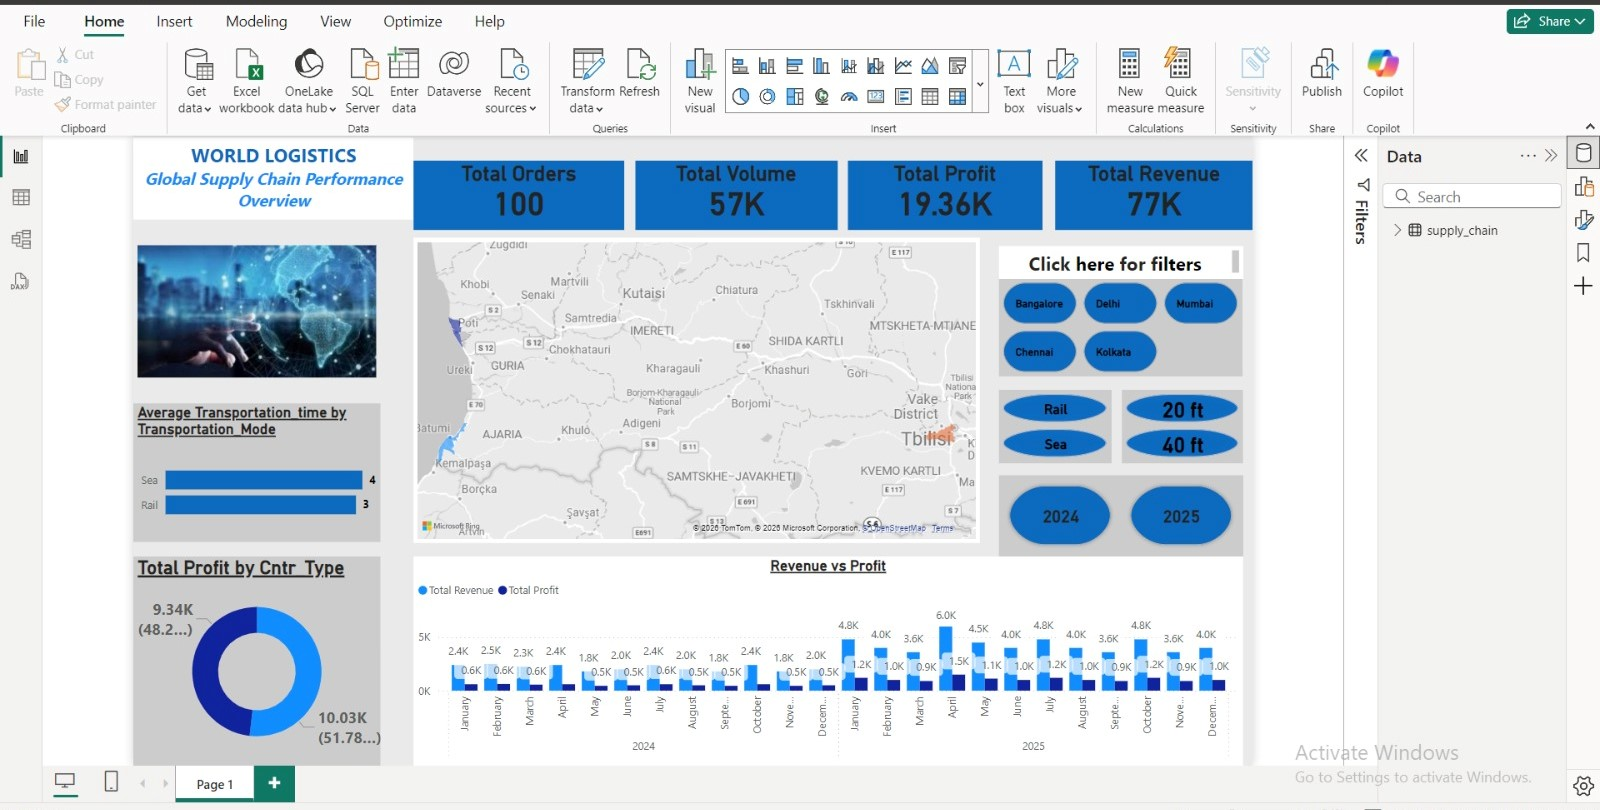

The dashboard page shown, as its layout file describes it:
{"tool":"powerbi","page":{"name":"Page 1","canvas":[1280,720],"ordinal":0},"visuals":[{"type":"card","title":"Total Revenue","fields":{"Values":["supply_chain.Total Freight"]},"box":[1053.2,28.9,226.5,79.4],"z":0},{"type":"card","title":"   Total Orders","fields":{"Values":["supply_chain.Shipment Quontity"]},"box":[320.3,28.9,240.9,79.4],"z":1000},{"type":"card","title":"Total Profit","fields":{"Values":["supply_chain.Total Profit"]},"box":[816.6,28.9,222.2,79.4],"z":2000},{"type":"card","title":"Total Volume","fields":{"Values":["supply_chain.Total Volume"]},"box":[574.2,28.9,230.8,79.4],"z":3000},{"type":"donutChart","fields":{"Category":["supply_chain.Container_Type"],"Y":["supply_chain.Total Profit"]},"box":[0,480.4,282.8,239.5],"z":4000},{"type":"advancedSlicerVisual","fields":{"Values":["supply_chain.Transportation_Years"]},"box":[989.6,388,279.4,92.5],"z":5000},{"type":"lineClusteredColumnComboChart","title":"Revenue vs Profit","fields":{"Y":["supply_chain.Total Revenue","supply_chain.Total Profit"],"Category":["supply_chain.Transportation_Years","supply_chain.Month_Name"]},"box":[320.3,480.4,947.9,239.5],"z":6000},{"type":"filledMap","fields":{"Series":["supply_chain.Departure_Place"],"Category":["supply_chain.Arrival_Place"]},"box":[320,116.3,647.2,348.8],"z":7000},{"type":"advancedSlicerVisual","fields":{"Values":["supply_chain.Transportation_Mode"]},"box":[989.7,290,128.4,83.7],"z":8000},{"type":"advancedSlicerVisual","fields":{"Values":["supply_chain.Departure_Place"]},"box":[989.9,163.6,278.8,112.4],"z":9000},{"type":"textbox","box":[0,2.9,320.3,93.8],"z":11000},{"type":"textbox","box":[989.6,126.4,279.4,37.4],"z":12000},{"type":"advancedSlicerVisual","fields":{"Values":["supply_chain.Container_Type"]},"box":[1129.7,290,138.5,83.7],"z":13000},{"type":"clusteredBarChart","title":"Average Transportation_time by Transportation_Mode","fields":{"Category":["supply_chain.Transportation_Mode"],"Y":["Avg(supply_chain.Transportation_time)"]},"box":[0,305.9,282.8,158.7],"z":14000},{"type":"image","box":[0,96.7,282.8,209.2],"z":14001}]}

Visuals, with their boxes on the page's 1280x720 design canvas (x1, y1, x2, y2). These are canvas units, not pixel positions in the 1600x810 screenshot, which may show the page scaled, cropped or inside an application window:
"Total Revenue" card: l=1053, t=29, r=1280, b=108
"   Total Orders" card: l=320, t=29, r=561, b=108
"Total Profit" card: l=817, t=29, r=1039, b=108
"Total Volume" card: l=574, t=29, r=805, b=108
donutChart - supply_chain.Container_Type x supply_chain.Total Profit: l=0, t=480, r=283, b=720
advancedSlicerVisual - supply_chain.Transportation_Years: l=990, t=388, r=1269, b=480
"Revenue vs Profit" lineClusteredColumnComboChart: l=320, t=480, r=1268, b=720
filledMap - supply_chain.Departure_Place x supply_chain.Arrival_Place: l=320, t=116, r=967, b=465
advancedSlicerVisual - supply_chain.Transportation_Mode: l=990, t=290, r=1118, b=374
advancedSlicerVisual - supply_chain.Departure_Place: l=990, t=164, r=1269, b=276
textbox: l=0, t=3, r=320, b=97
textbox: l=990, t=126, r=1269, b=164
advancedSlicerVisual - supply_chain.Container_Type: l=1130, t=290, r=1268, b=374
"Average Transportation_time by Transportation_Mode" clusteredBarChart: l=0, t=306, r=283, b=465
image: l=0, t=97, r=283, b=306
